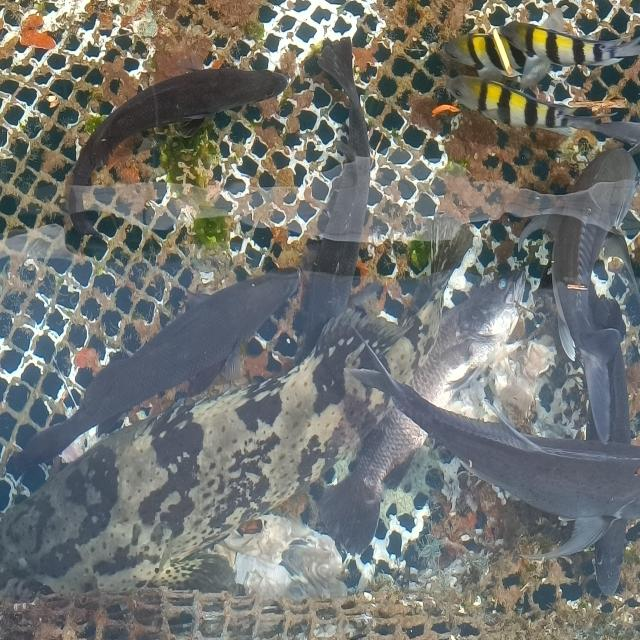ikan: (346, 340, 639, 596), (6, 264, 302, 476), (64, 64, 290, 233), (431, 73, 639, 149), (441, 19, 639, 96)
